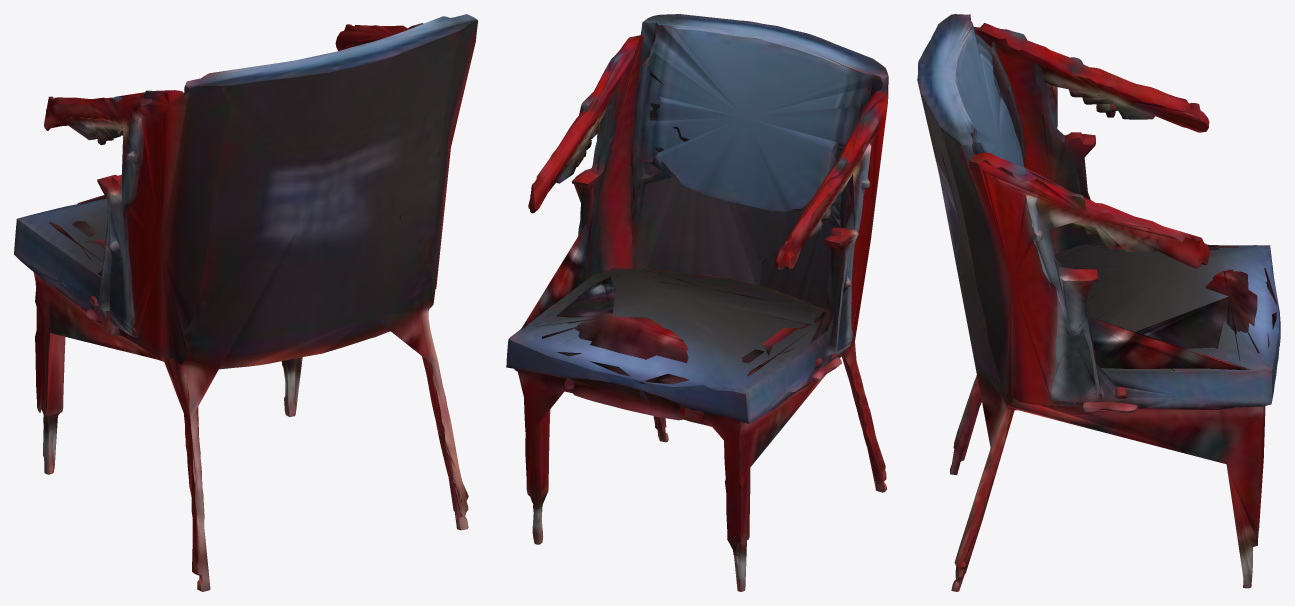
The picture shows the model from 3 angles, left to right: view 1: azimuth 30°, elevation 25°; view 2: azimuth 150°, elevation 25°; view 3: azimuth 270°, elevation 25°; orthographic projection. The views are drawn at different scales.
Visible parts, largest first — view 1: world; view 2: world; view 3: world.
Part boxes in pixels (x1=…): world: x1=14, y1=14, x2=477, y2=591; world: x1=506, y1=14, x2=888, y2=591; world: x1=917, y1=14, x2=1280, y2=591.
Bounding box in the file's own units: 0.3212 × 0.4831 × 0.343.
1 material, 1 textured.
